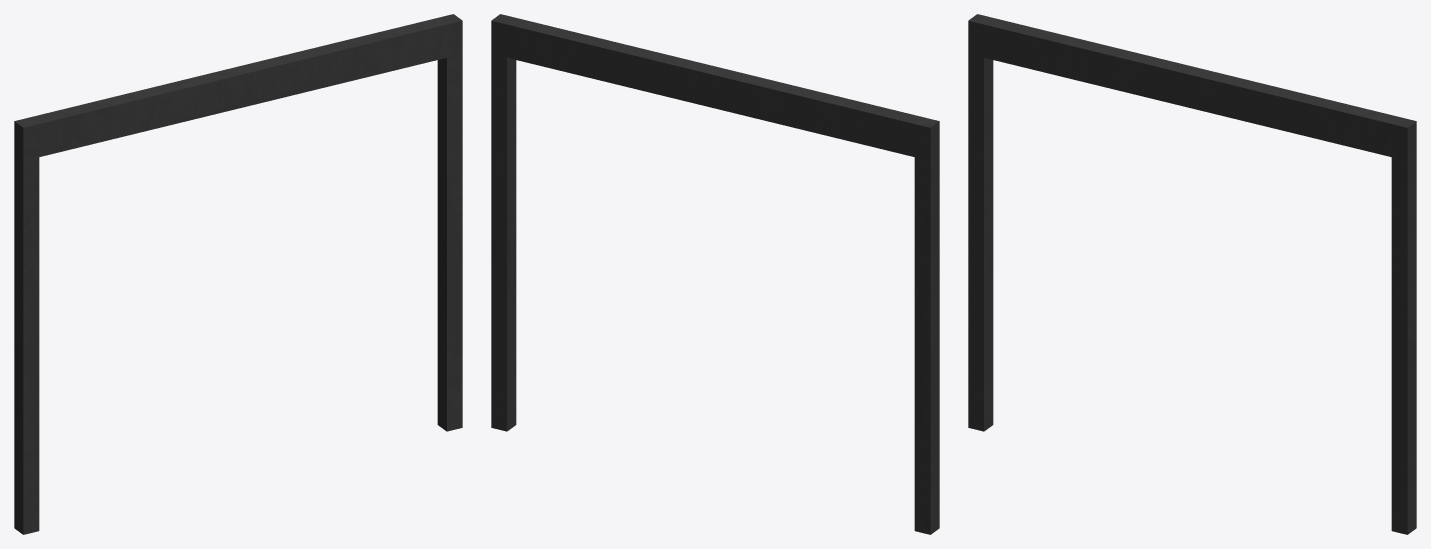
Rendered from hyr-frame_h22-w27_matblack.fbx.
The picture shows the model from 3 angles, left to right: view 1: azimuth 30°, elevation 25°; view 2: azimuth 150°, elevation 25°; view 3: azimuth 330°, elevation 25°; orthographic projection.
Parts seen in each view (by area): view 1: hyr-frame_h22-w27_matblack; view 2: hyr-frame_h22-w27_matblack; view 3: hyr-frame_h22-w27_matblack.
Boxes of the visible parts, left/top/right/bottom form: hyr-frame_h22-w27_matblack: left=14, top=14, right=462, bottom=534; hyr-frame_h22-w27_matblack: left=491, top=14, right=939, bottom=534; hyr-frame_h22-w27_matblack: left=968, top=14, right=1416, bottom=534.
Bounding box in the file's own units: 277 × 245 × 10.
Materials: 1 (1 with a texture image).
